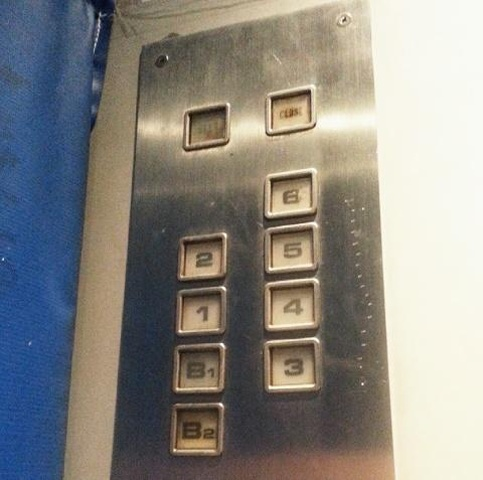1: (174, 284, 229, 338)
2: (177, 233, 230, 282)
3: (261, 335, 324, 395)
4: (262, 276, 322, 335)
5: (262, 220, 323, 276)
6: (262, 165, 320, 221)
B1: (170, 340, 227, 396)
B2: (168, 399, 227, 458)
blur: (263, 82, 319, 138), (180, 100, 233, 152)
